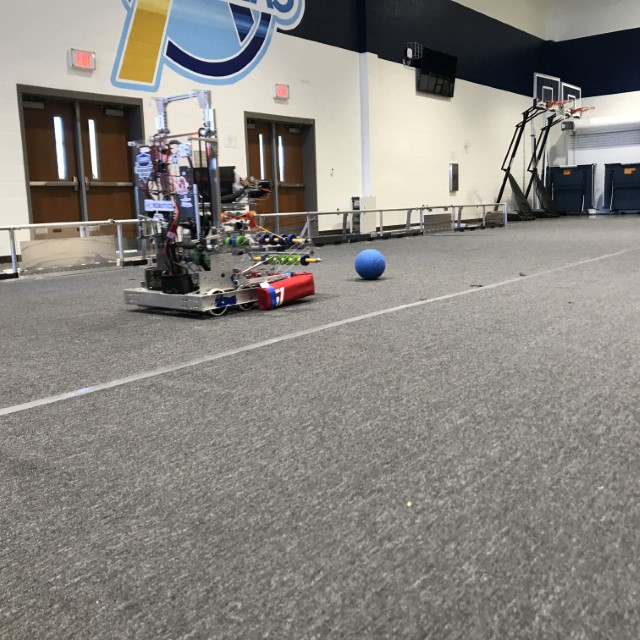blue: (350, 247, 391, 282)
